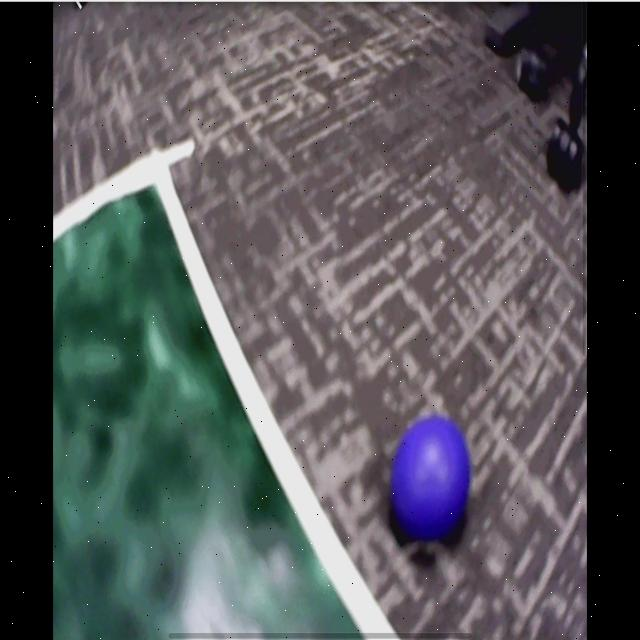ball: (392, 419, 471, 541)
